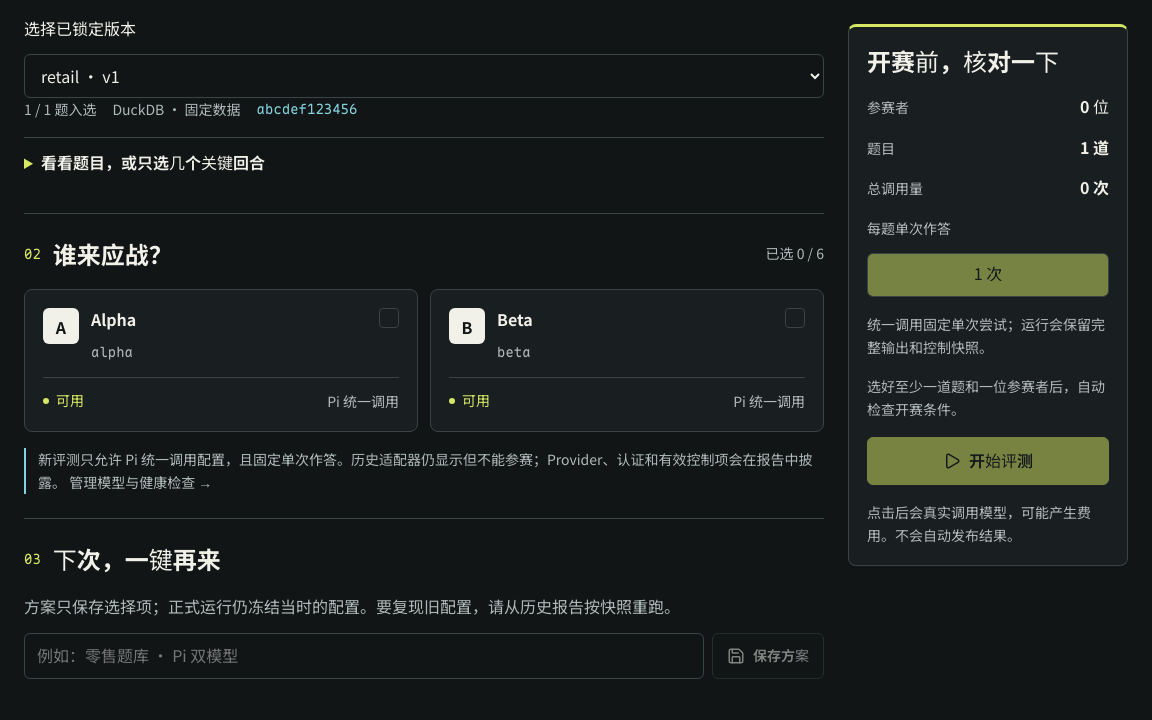
Scenario: 新建评测门禁 › 只有当前选择通过预检才能开赛，新增不健康模型后重新锁定
(page scrolled)
expect the button "开始评测" is disabled: met, box [867,437,1109,485]
Click the button "A Alpha alpha 可用 Pi 统一调用": (61, 326) [24,289,418,432]
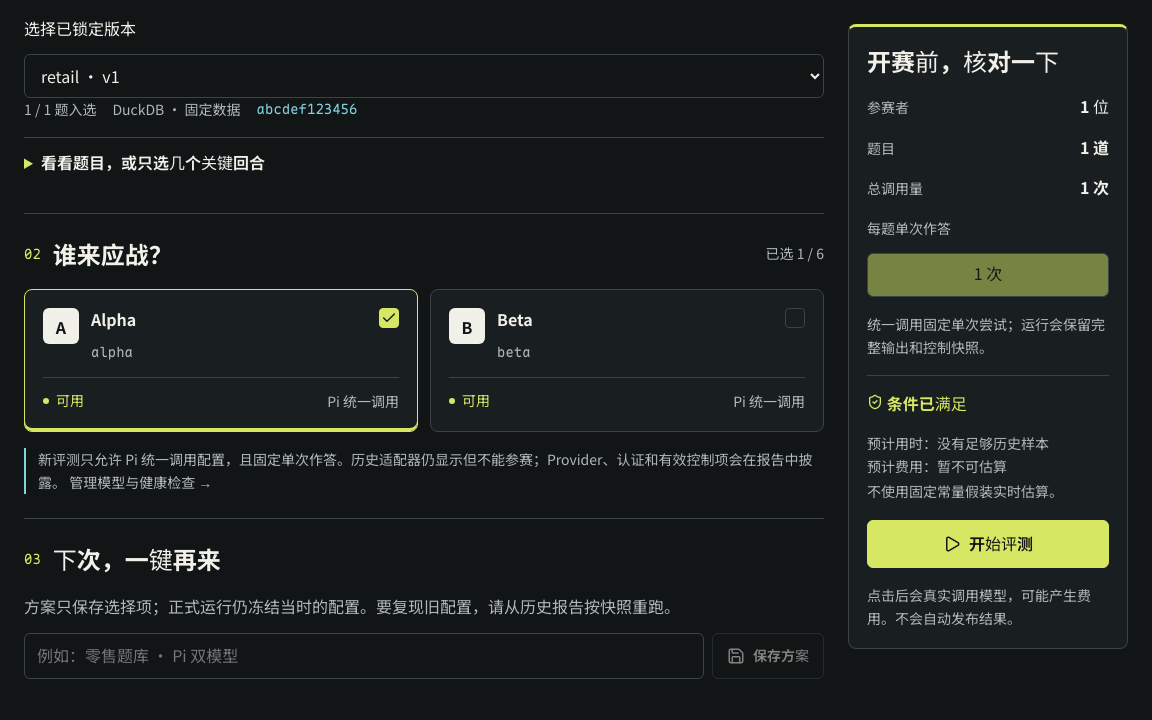
expect the button "开始评测" is enabled: met, box [867,521,1109,569]
Click the button "B Beta beta 可用 Pi 统一调用": (467, 326) [430,289,824,432]
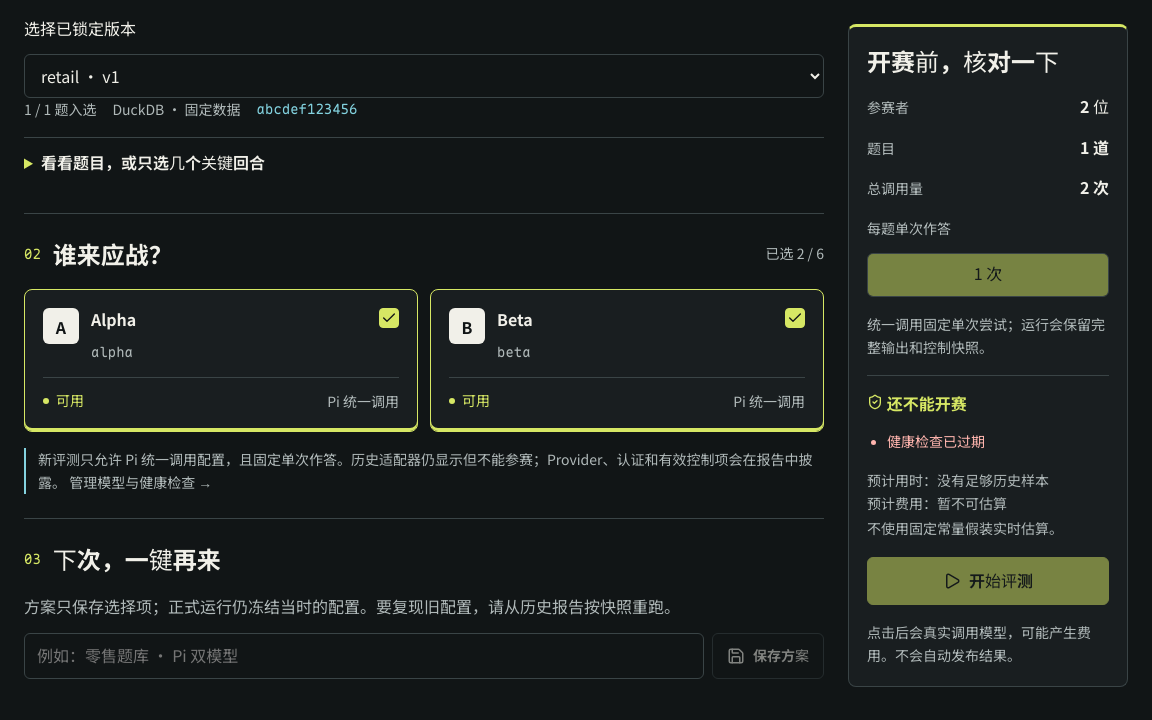
expect the list item "健康检查已过期" is shown: met, box [887,433,985,450]
expect the button "开始评测" is disabled: met, box [867,558,1109,606]
Click the button "B Beta beta 可用 Pi 统一调用": (467, 326) [430,289,824,432]
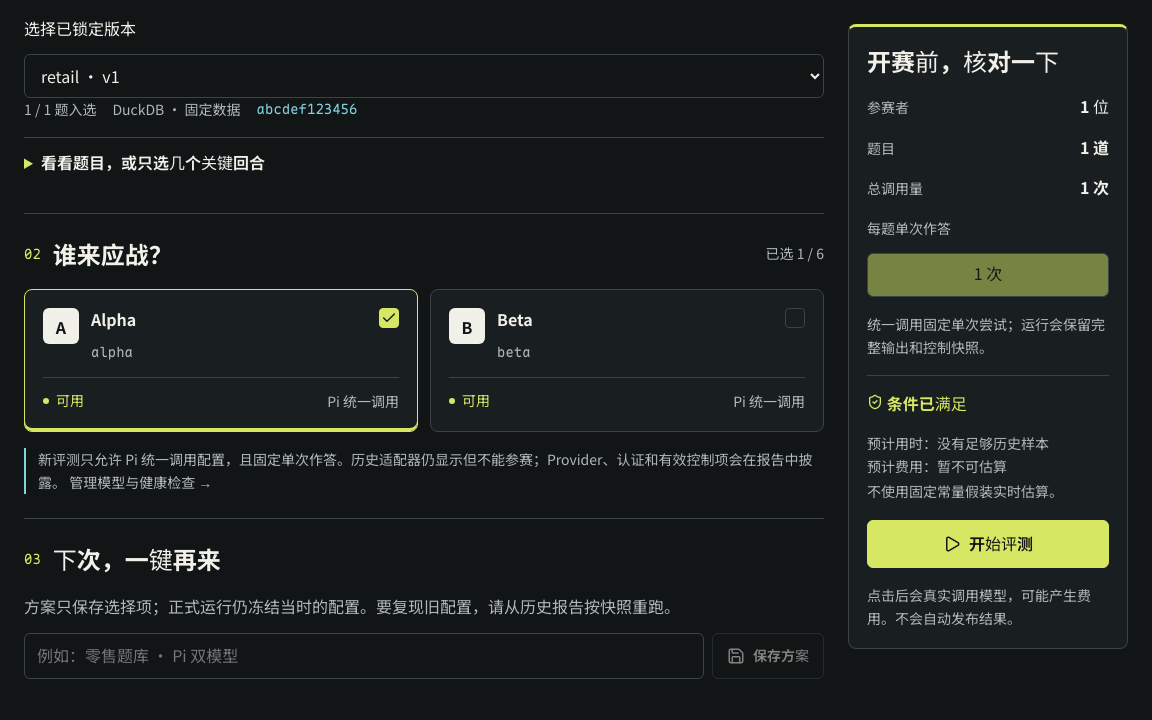
expect the button "开始评测" is enabled: met, box [867,521,1109,569]
